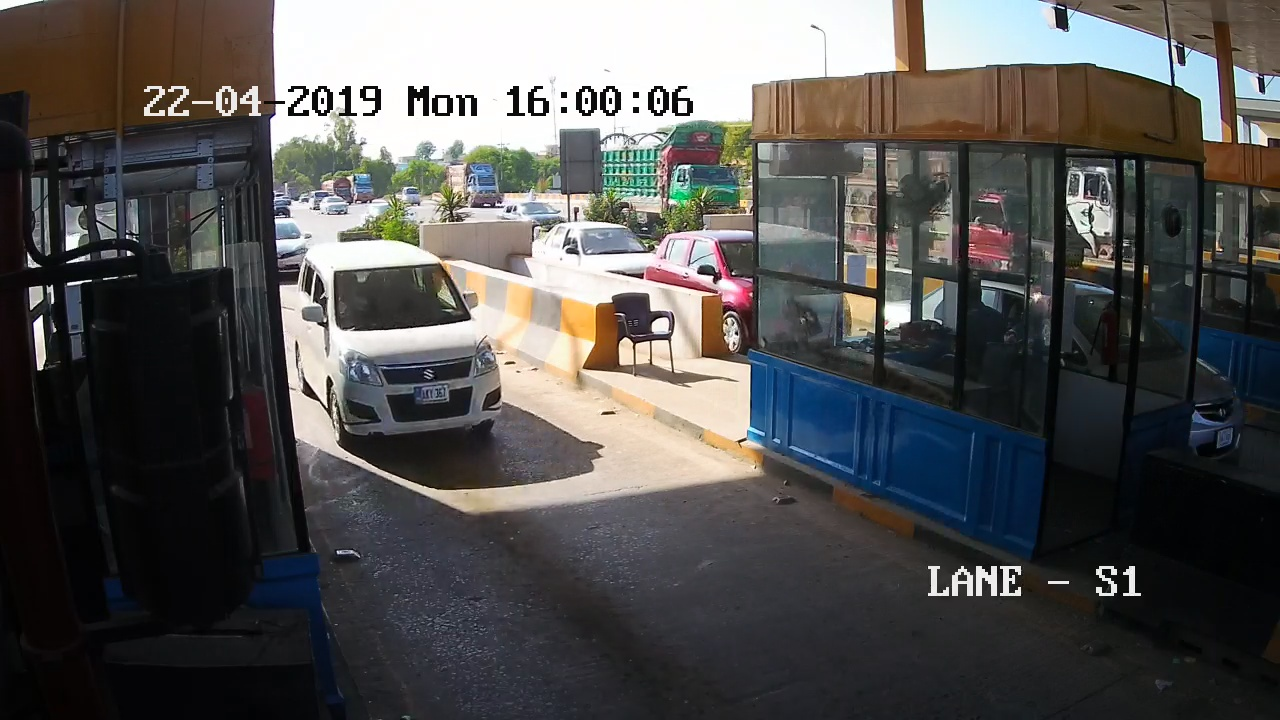car: (299, 248, 512, 448)
